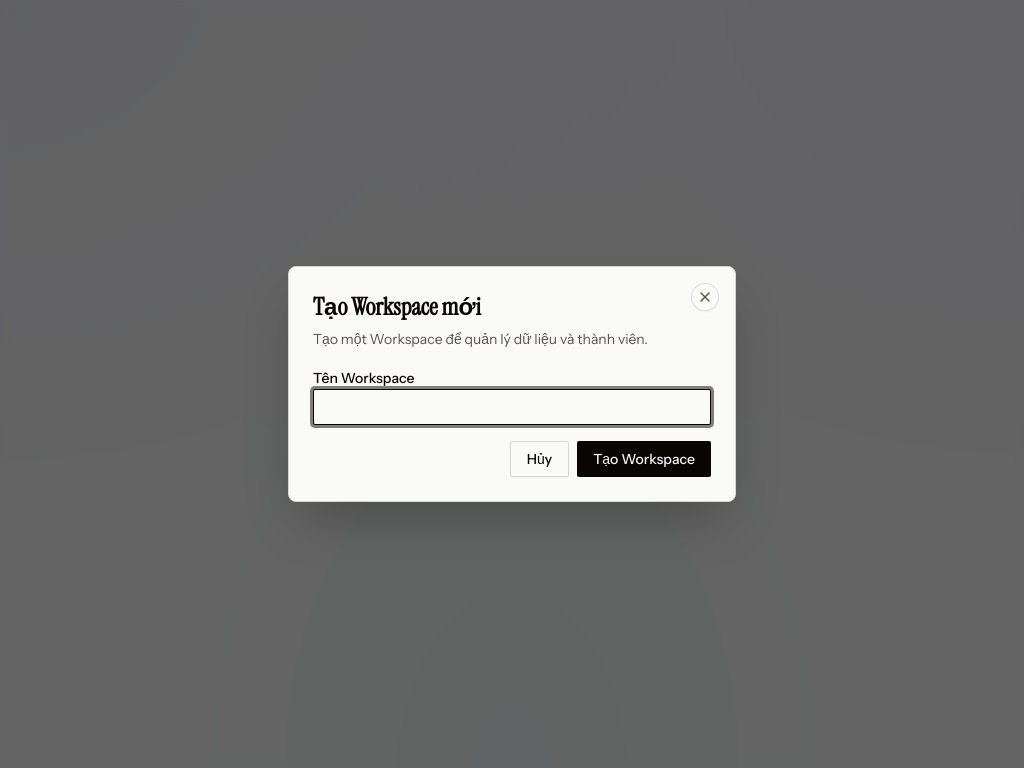
Scenario: CreateWorkspaceModal › keeps the modal open and displays API errors
Type "Workspace" into the field labelled "Tên Workspace" at point(512, 407), box [313, 389, 711, 425]
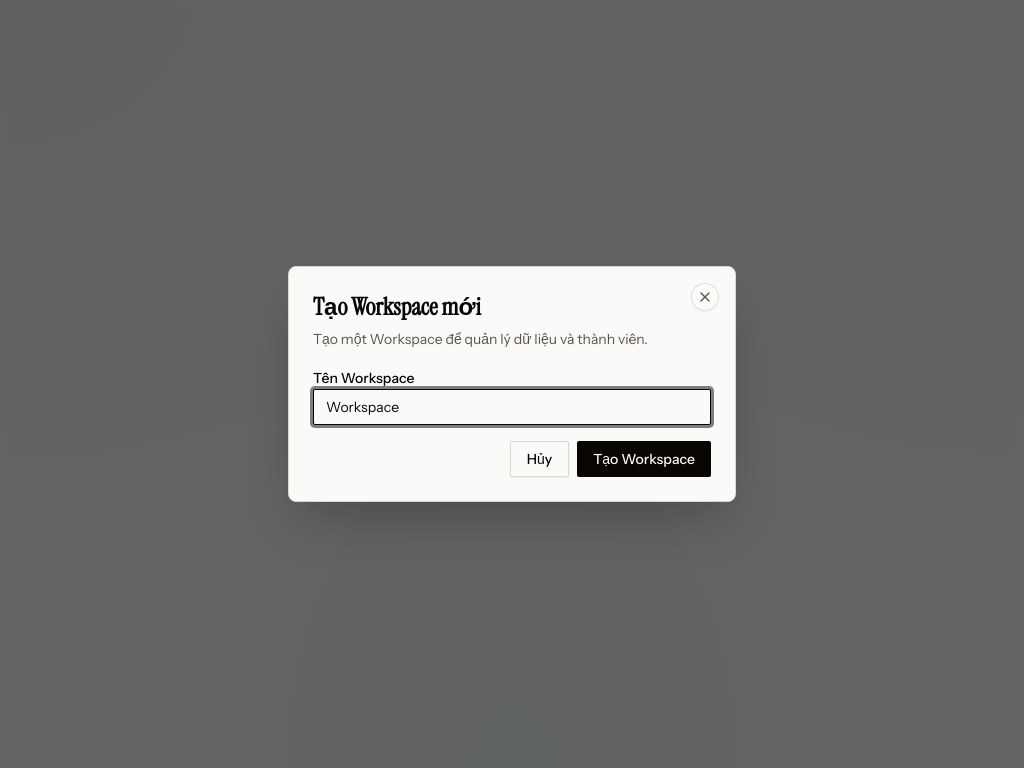
Click the button "Tạo Workspace" at point(644, 459), box [577, 441, 711, 477]
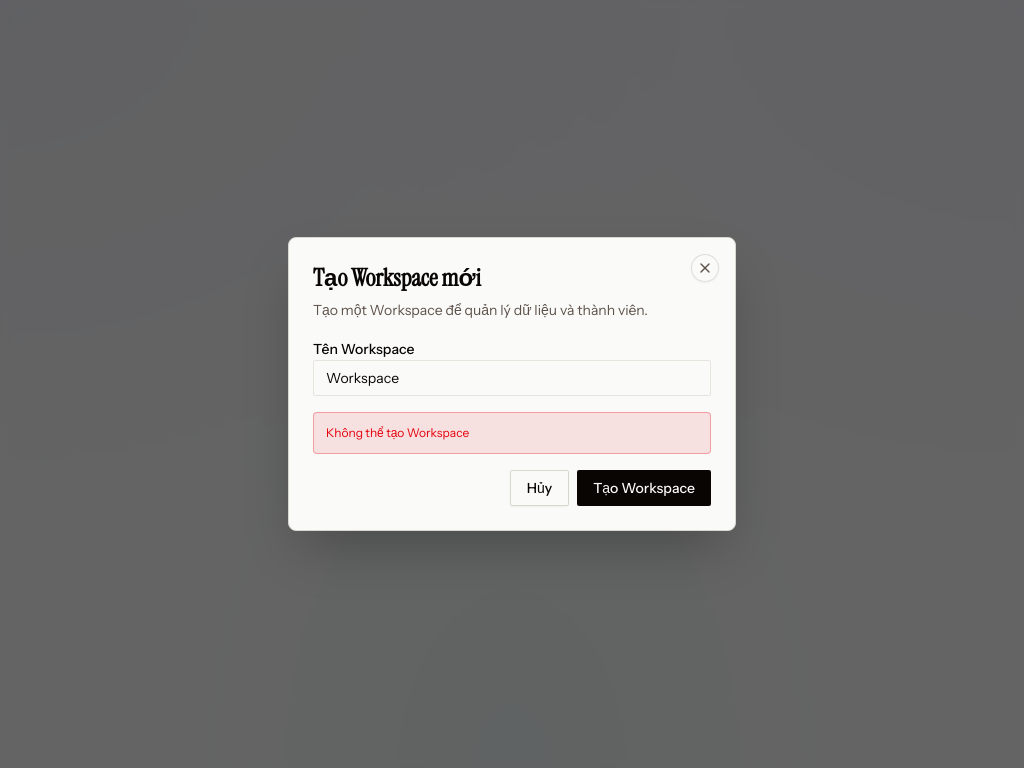
Expected: the message reads "Không thể tạo Workspace", [326, 425, 469, 440]
